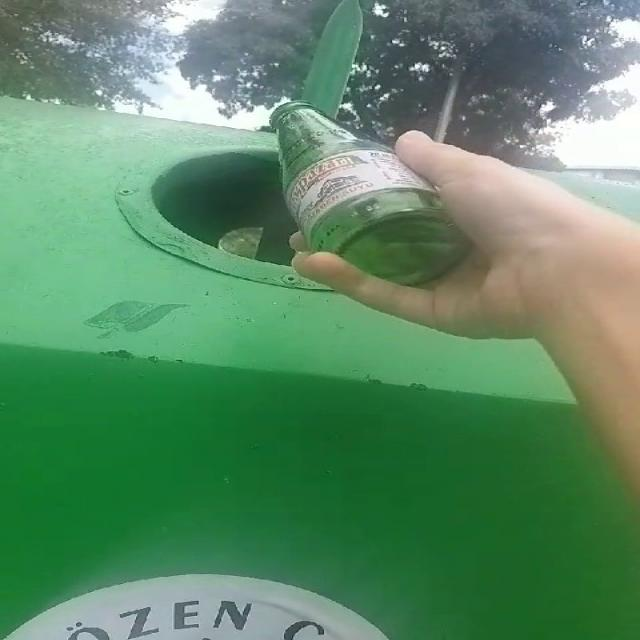glass: (271, 101, 469, 284)
